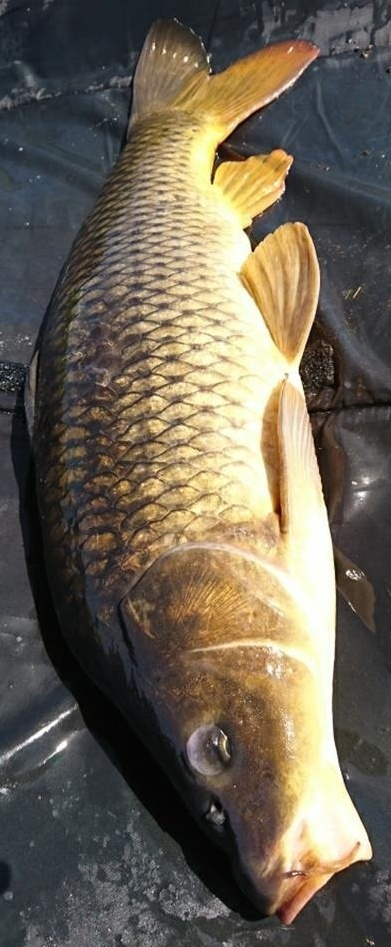Cyprinus carpio: (20, 20, 371, 927)
